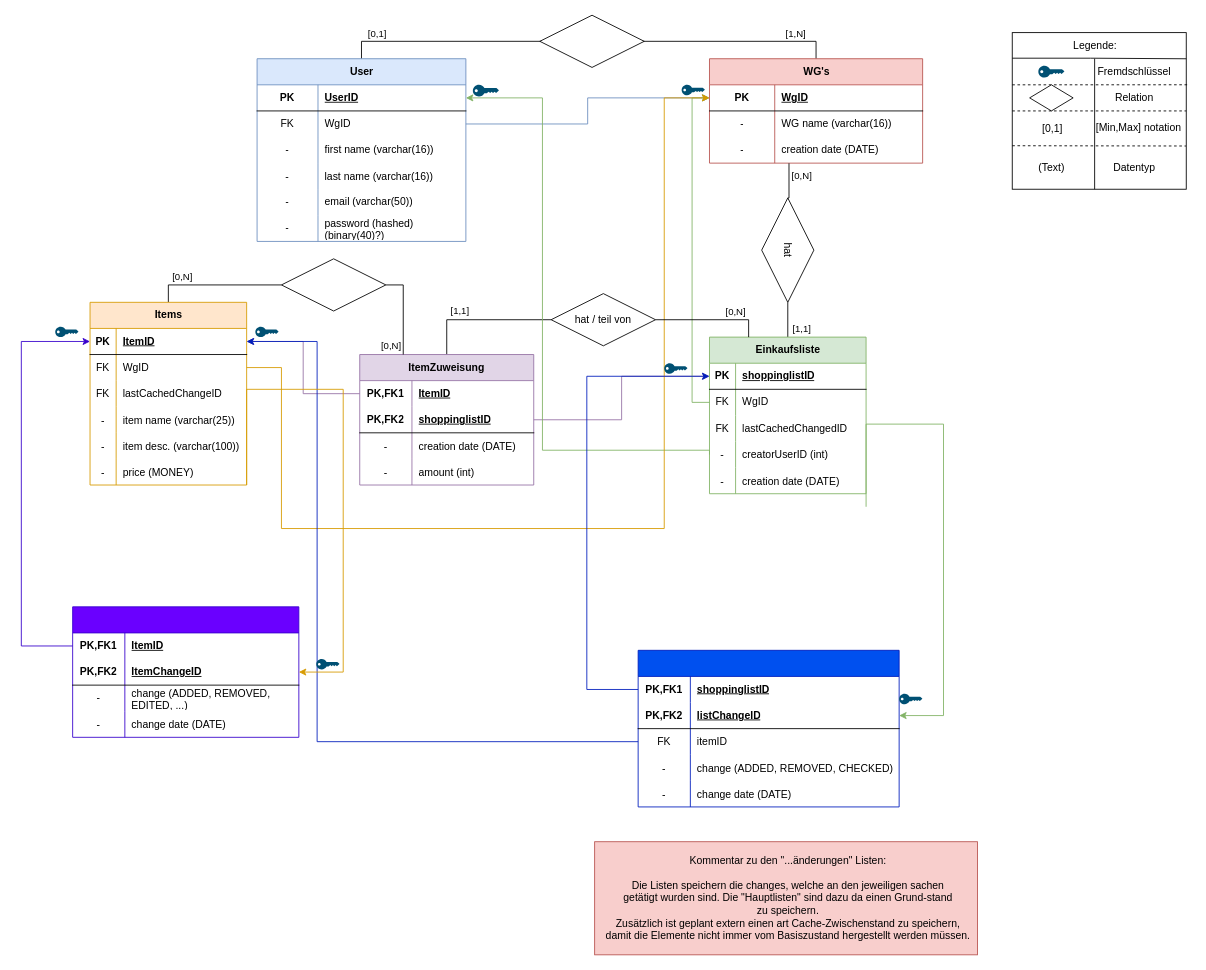
Image size: 1206x970. Some labels were removed from this diagram. Here are the shapes that lost their labels. From the top down, the box of each, then its label:
(539, 14, 644, 67): teil von
(281, 258, 386, 311): in
(72, 606, 299, 737): Itemänderungen
(637, 649, 899, 807): Listenänderungen
